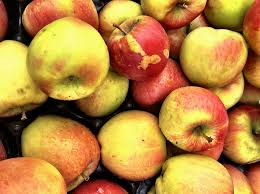apple: (99, 111, 170, 179), (160, 154, 237, 193)
damaged_apple: (28, 20, 114, 101), (160, 86, 230, 152), (111, 19, 172, 73)
